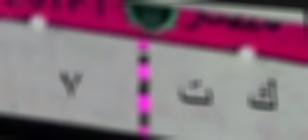7: (53, 68, 90, 103)
kaaf: (239, 72, 285, 122)
taa: (168, 73, 218, 113)
